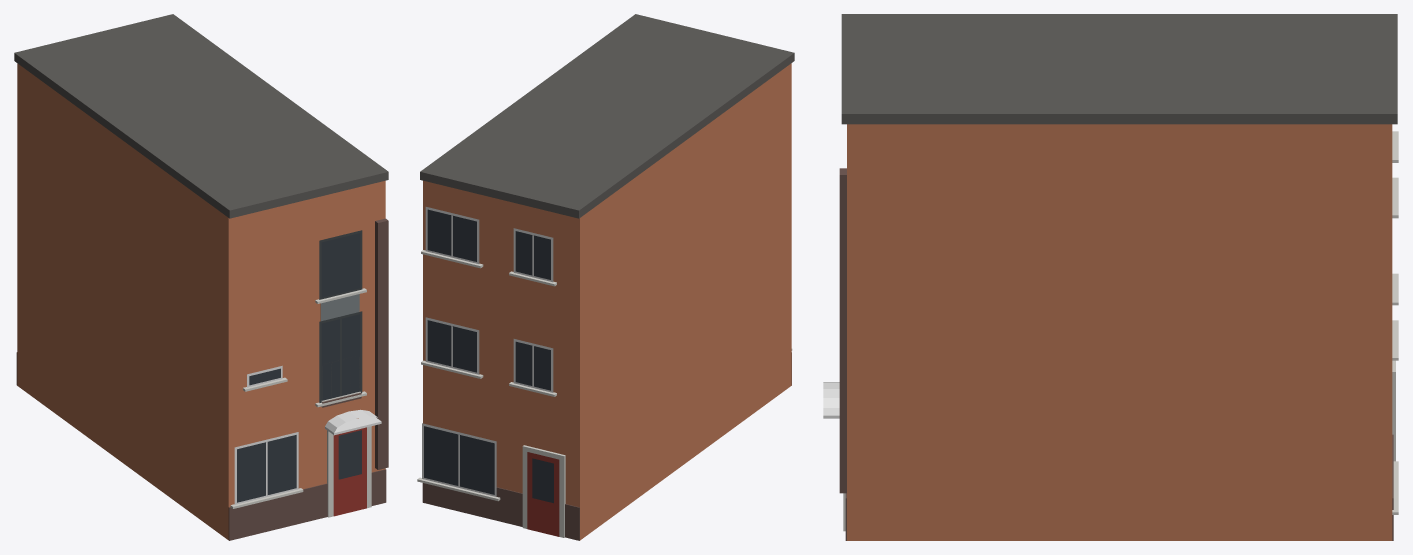
The model's file is nw-ao-slot__orange__3__flat__long__solid__f0d0__mirror.glb.
3 views of the same model, side by side, from view 1: azimuth 30°, elevation 25°; view 2: azimuth 150°, elevation 25°; view 3: azimuth 270°, elevation 25° (orthographic). The views are drawn at different scales.
Parts seen in each view (by area): view 1: nw-ao-slot__orange__3__flat__long__solid__f0d0__mirror; view 2: nw-ao-slot__orange__3__flat__long__solid__f0d0__mirror; view 3: nw-ao-slot__orange__3__flat__long__solid__f0d0__mirror.
Boxes of the visible parts, x1=… form: nw-ao-slot__orange__3__flat__long__solid__f0d0__mirror: x1=14, y1=14, x2=388, y2=540; nw-ao-slot__orange__3__flat__long__solid__f0d0__mirror: x1=417, y1=14, x2=794, y2=540; nw-ao-slot__orange__3__flat__long__solid__f0d0__mirror: x1=823, y1=14, x2=1398, y2=540.
Size of the model in its own units: 4.58 by 9 by 10.97.
